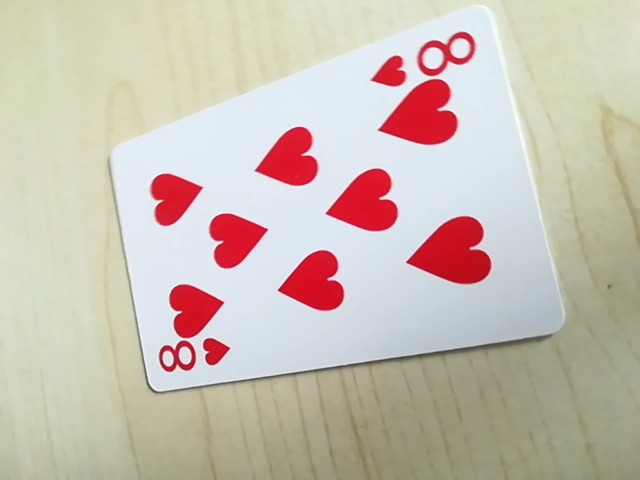hx 8: (367, 25, 482, 87), (155, 333, 231, 383)
